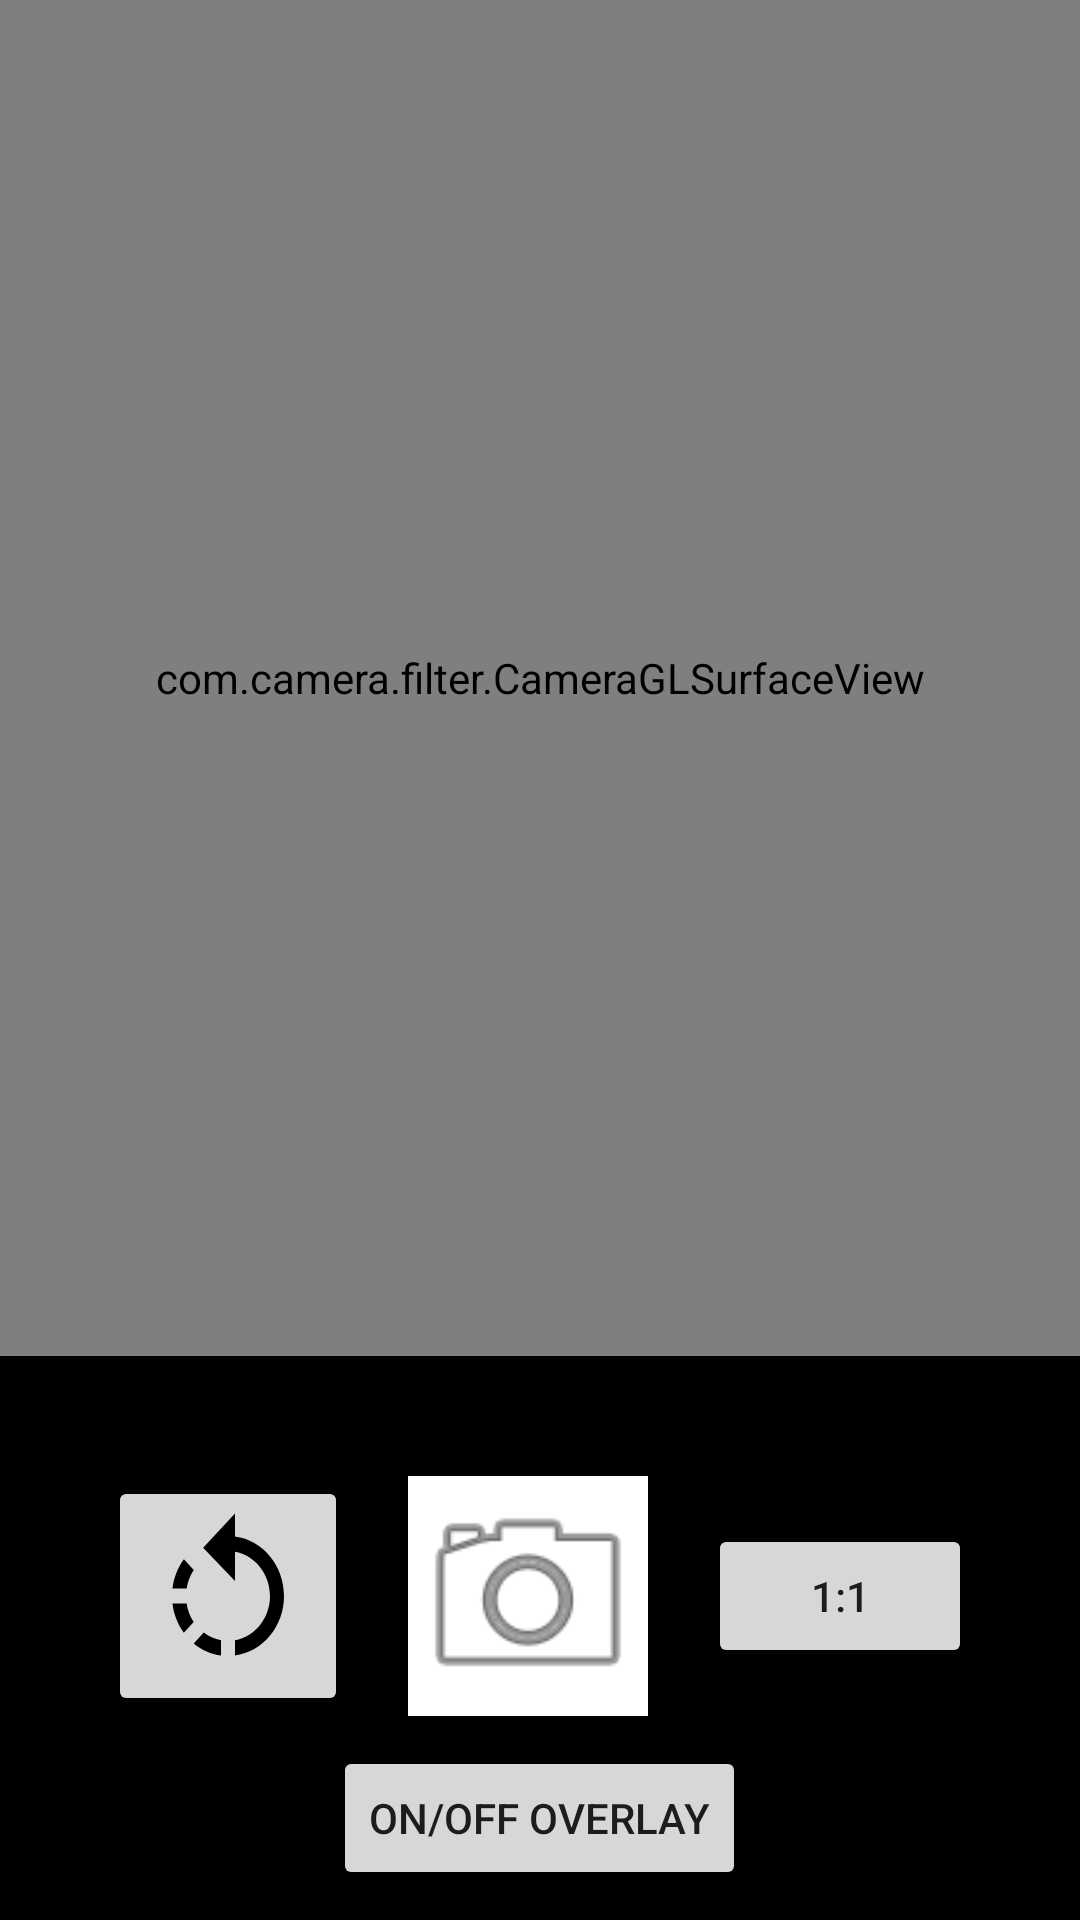

Locate icon controls on the screen. Image size 1080px×1920px, boxes as (x1, y1, x2, y2).
rotate: (120, 1494, 336, 1698)
